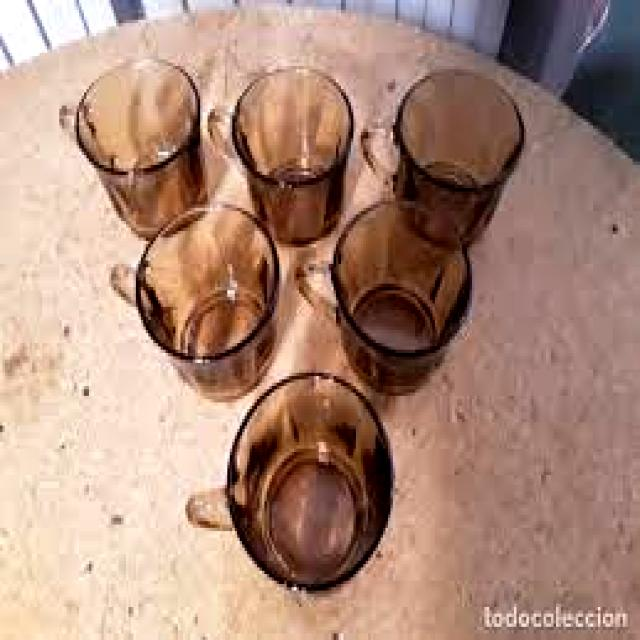Glass: (222, 373, 397, 590), (132, 200, 282, 401), (330, 200, 475, 398), (386, 68, 526, 244), (74, 55, 209, 232), (230, 60, 353, 236)
